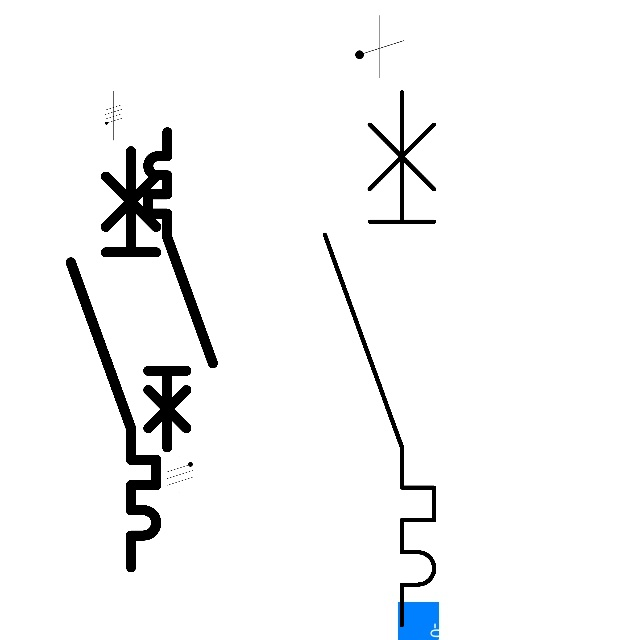interruptor_termomagnetico: (311, 78, 448, 639), (60, 140, 167, 577), (140, 124, 221, 455)
